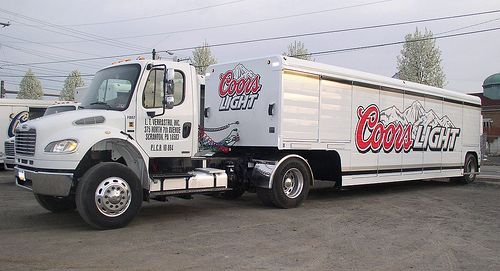truck: (11, 54, 479, 225)
